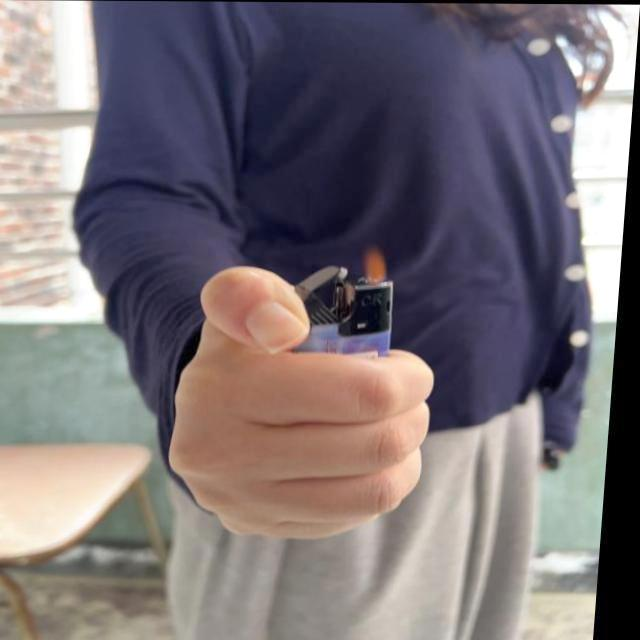fire: (365, 243, 399, 285)
